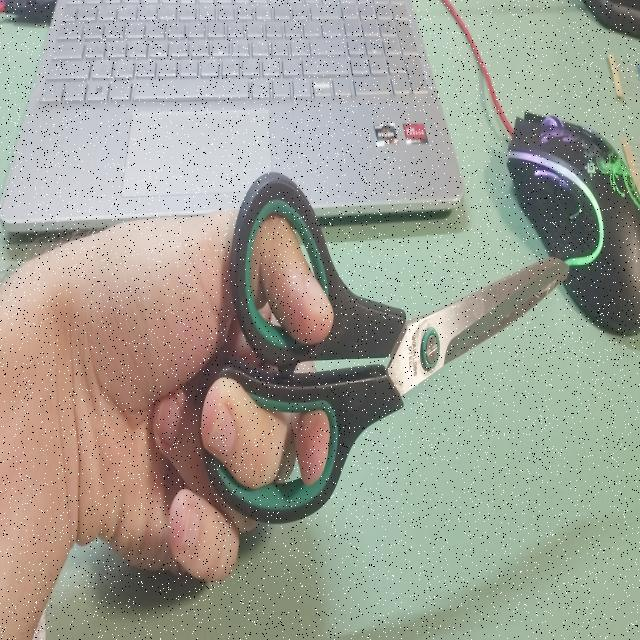scissors: (199, 161, 571, 529)
